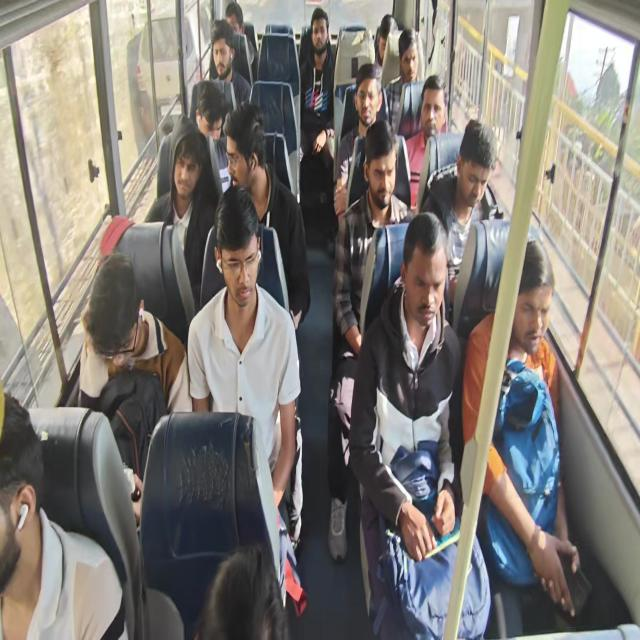person: (0, 380, 42, 577), (402, 224, 450, 334), (509, 251, 555, 351), (214, 206, 259, 307), (92, 268, 138, 351), (462, 120, 492, 214), (360, 132, 396, 200), (229, 120, 263, 189), (169, 134, 197, 212), (194, 85, 225, 147), (417, 83, 449, 141), (354, 74, 382, 126), (211, 27, 235, 83), (308, 8, 330, 56), (399, 30, 420, 80), (223, 0, 249, 40), (378, 14, 397, 67)
